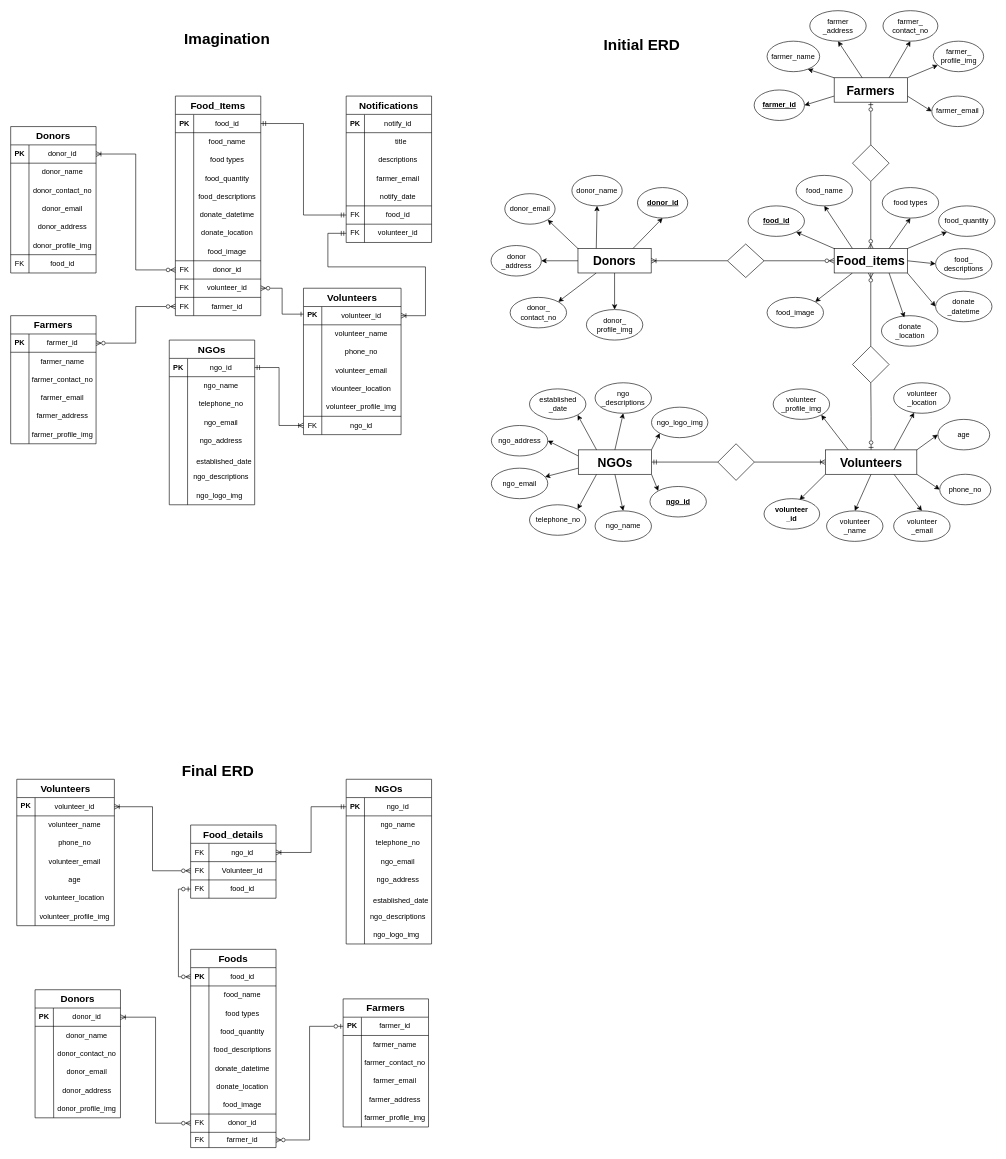
Some shapes in this 1006 by 1159 pixel diagram are drawn without their labels. Here are the shapes that lost their labels. From the top down, the centre of each, then its label:
At (x=870, y=162): "receive".
At (x=745, y=260): "donate".
At (x=870, y=364): "deliver".
At (x=735, y=461): "have".
